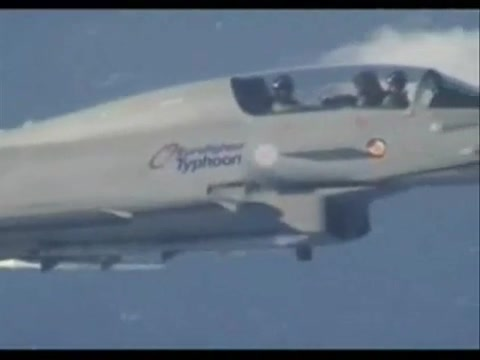aeroplane: (1, 62, 480, 273)
